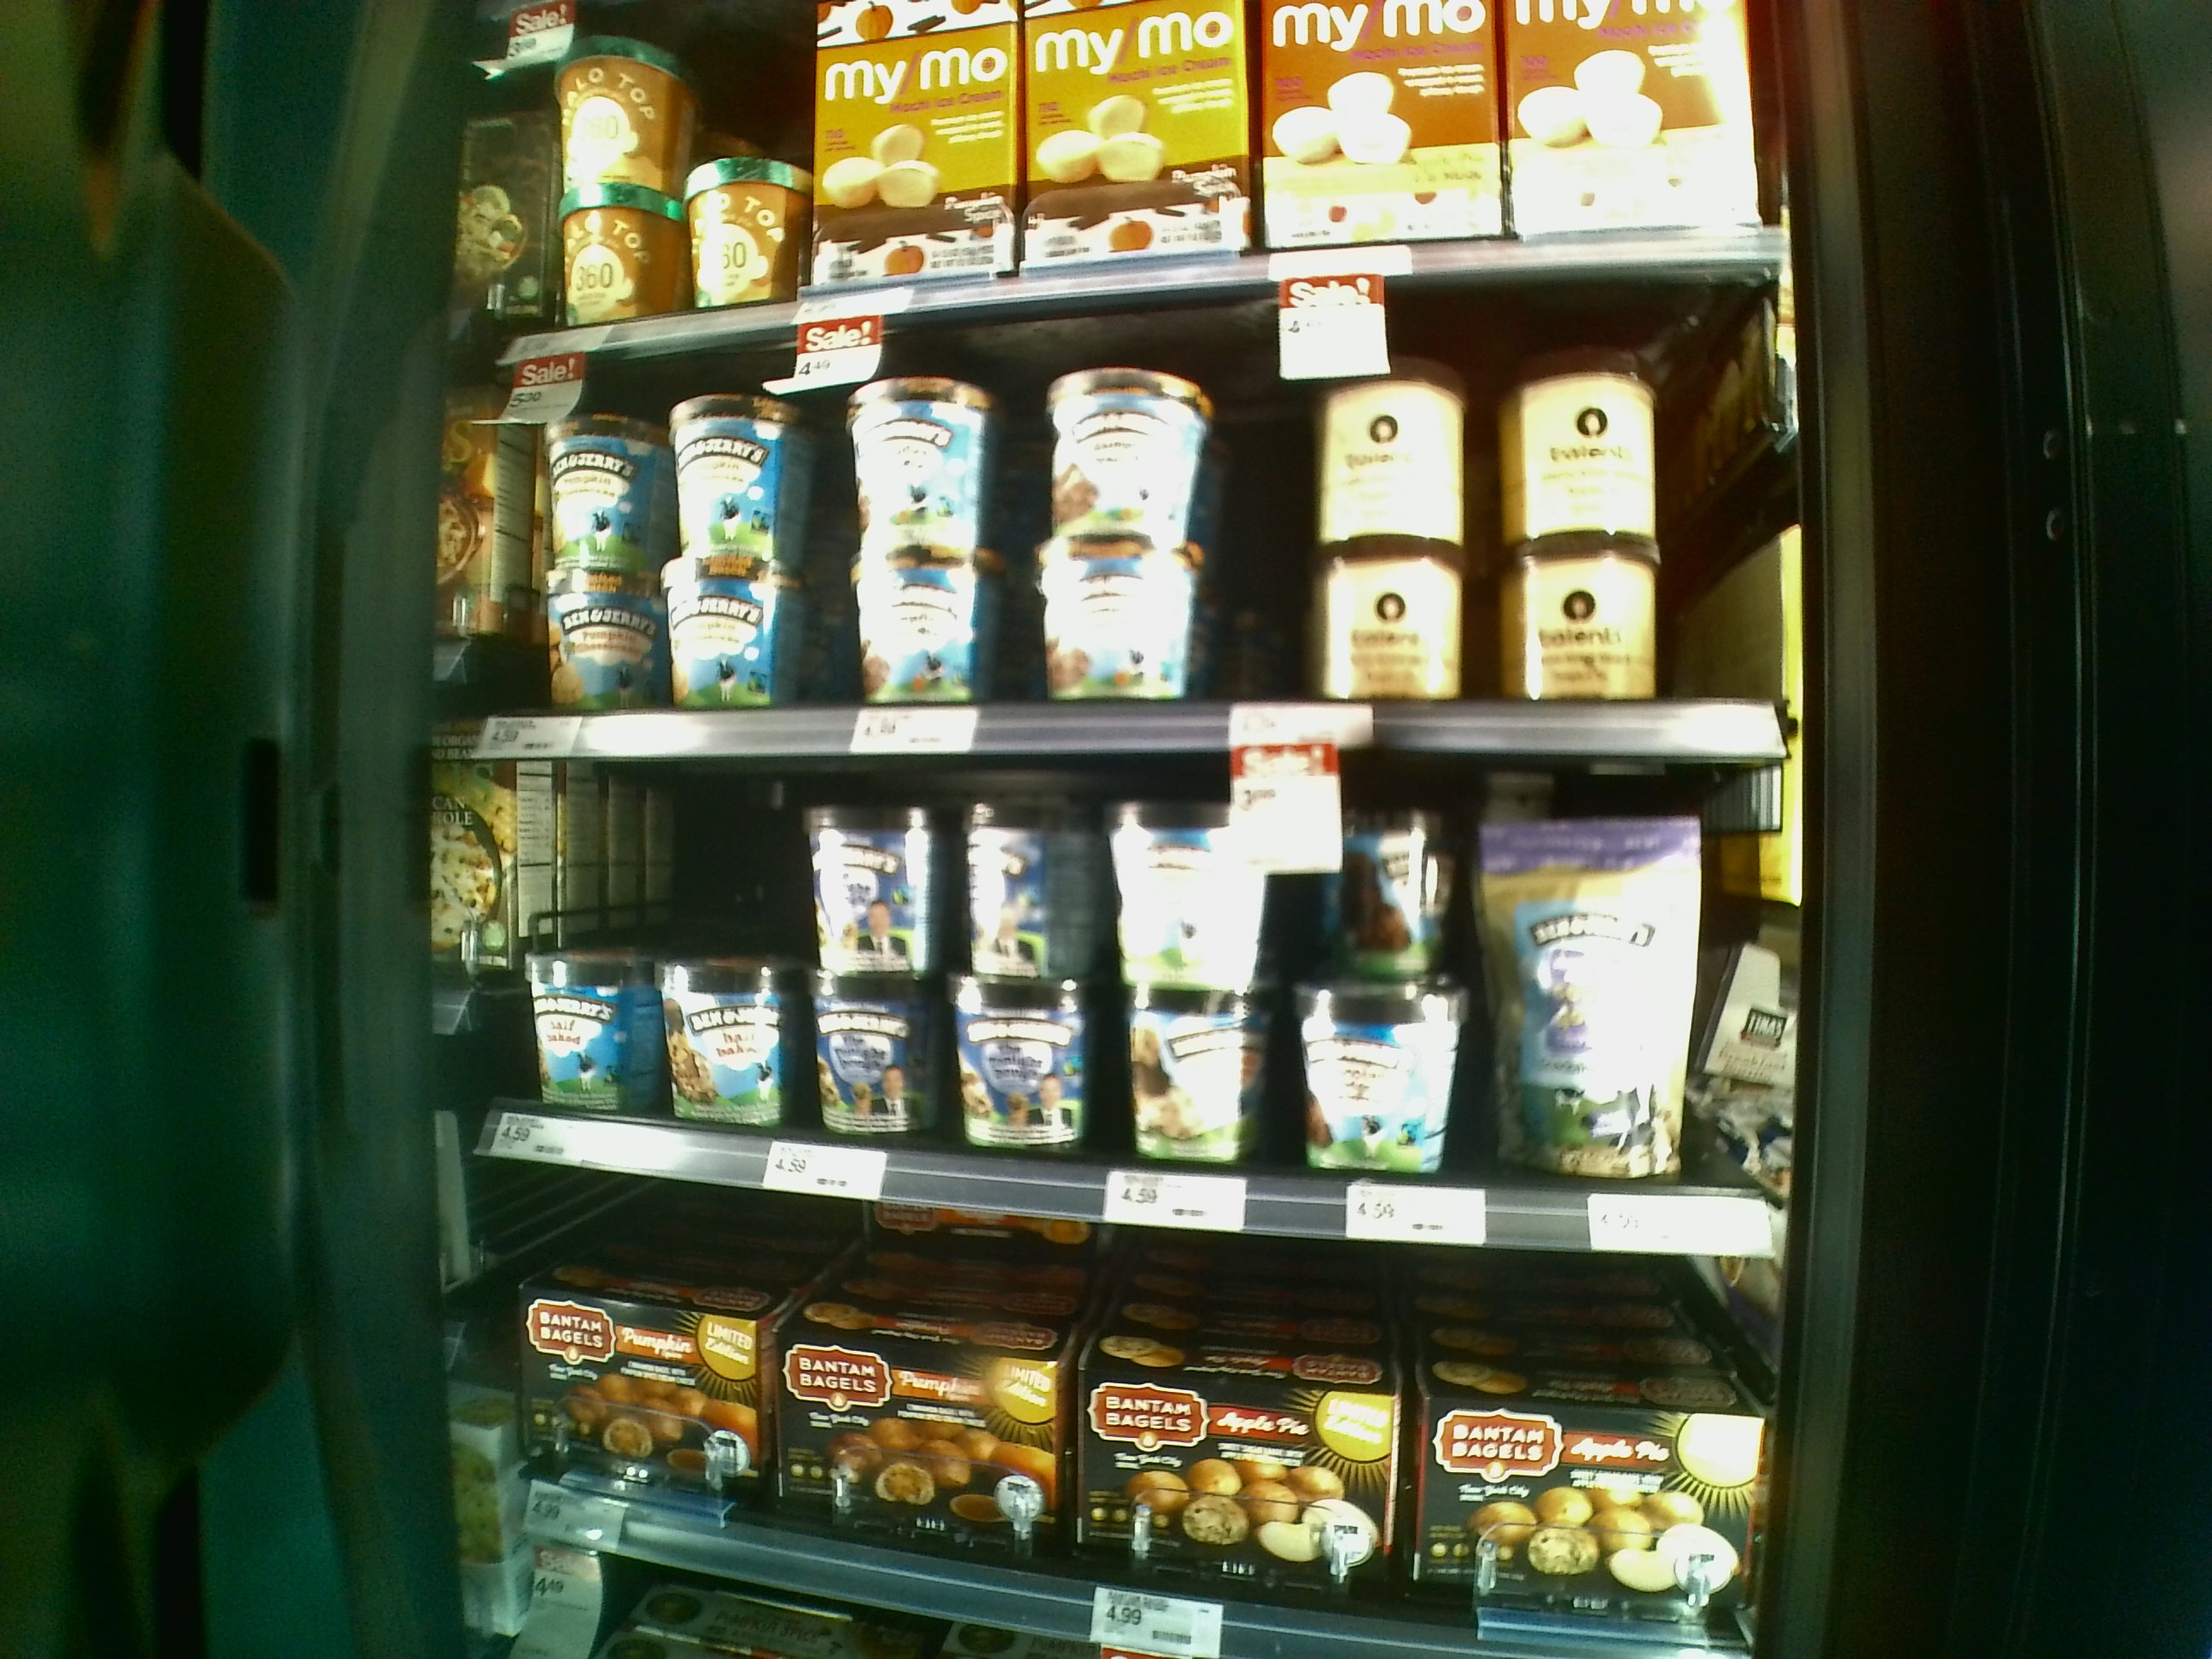shelf: (432, 755, 1780, 1263), (439, 350, 1787, 749)
